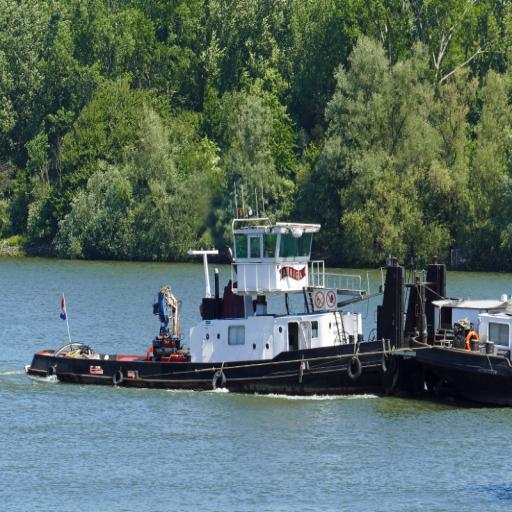tugboat: (22, 172, 452, 404)
